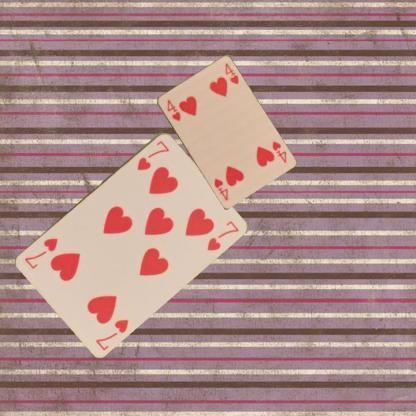4h: (164, 96, 182, 122), (269, 139, 287, 164)
7h: (93, 316, 130, 351), (134, 138, 170, 172)
